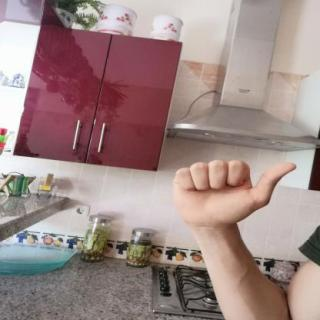DAD: (162, 152, 306, 235)
